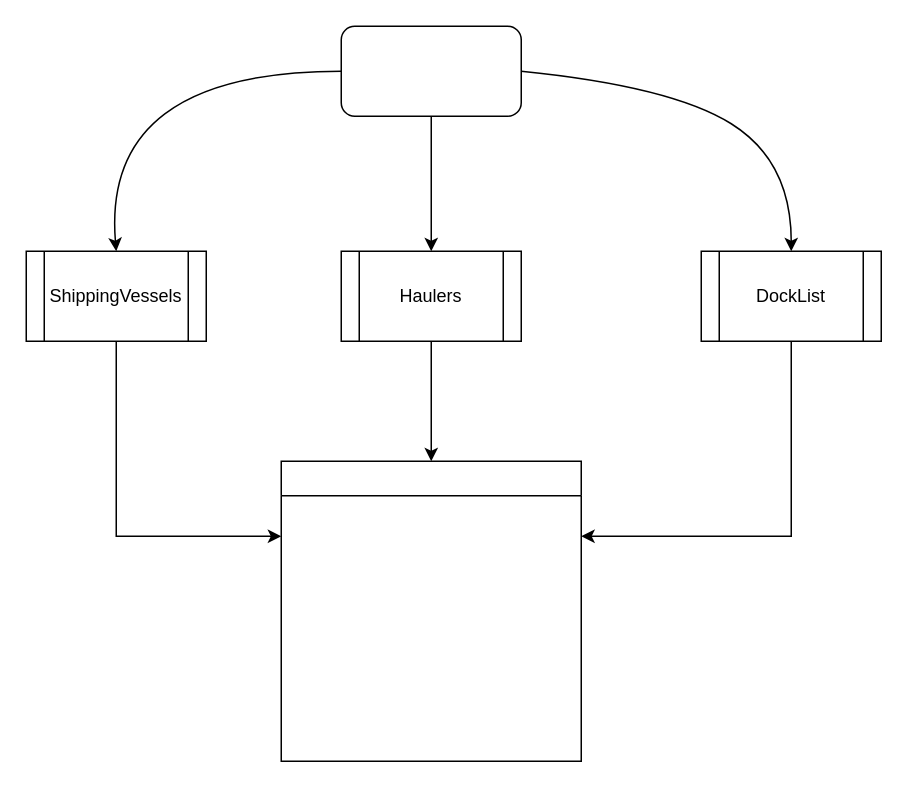
Some shapes in this 908 by 788 pixel diagram are drawn without their labels. Each missing label, with the centre of its shape:
"Database" goes at point 430,610.
"main" goes at point 430,70.
